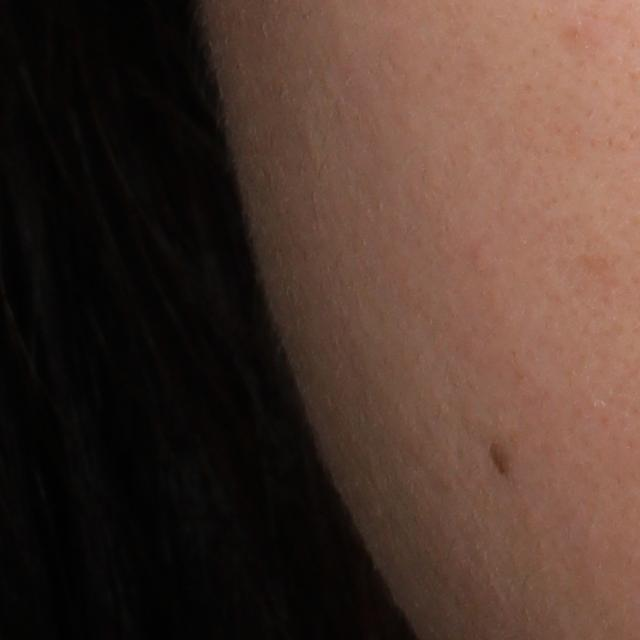nevus: (484, 441, 515, 485)
